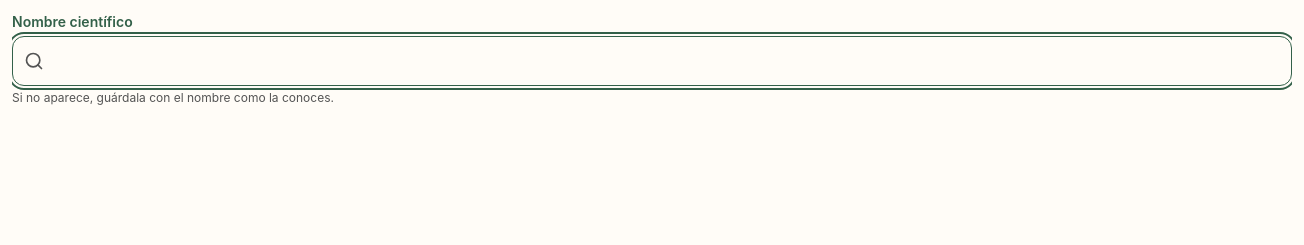
Autocomplete › elige con Enter, cierra la lista y avisa a quien lo usa
The image size is (1304, 245).
Type "phal" into the dropdown labelled "Nombre científico" at x=652, y=61, box 12,36 -> 1292,86
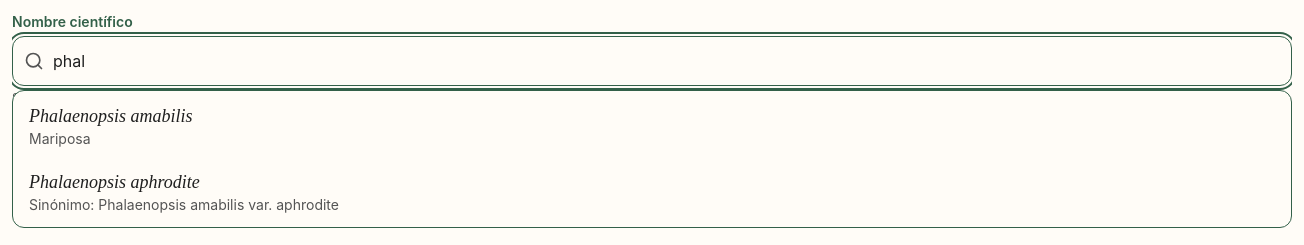
Press ArrowDown in the dropdown labelled "Nombre científico", box 12,36 -> 1292,86
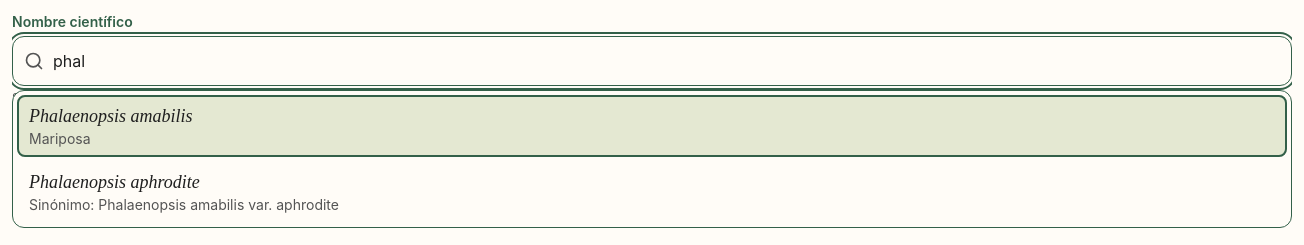
Press ArrowDown in the dropdown labelled "Nombre científico", box 12,36 -> 1292,86
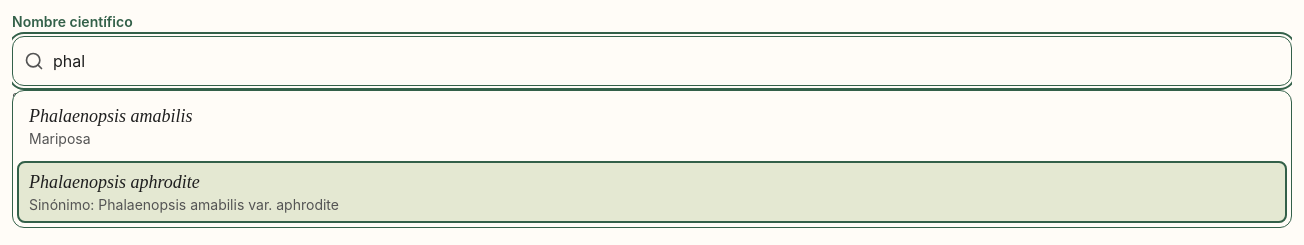
Press Enter in the dropdown labelled "Nombre científico", box 12,36 -> 1292,86
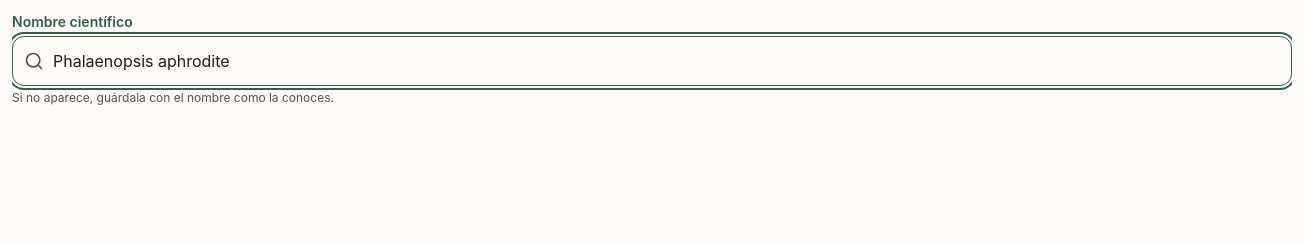
expect the dropdown labelled "Nombre científico" holds "Phalaenopsis aphrodite": met, box 12,36 -> 1292,86
expect the dropdown labelled "Nombre científico" is collapsed: met, box 12,36 -> 1292,86
